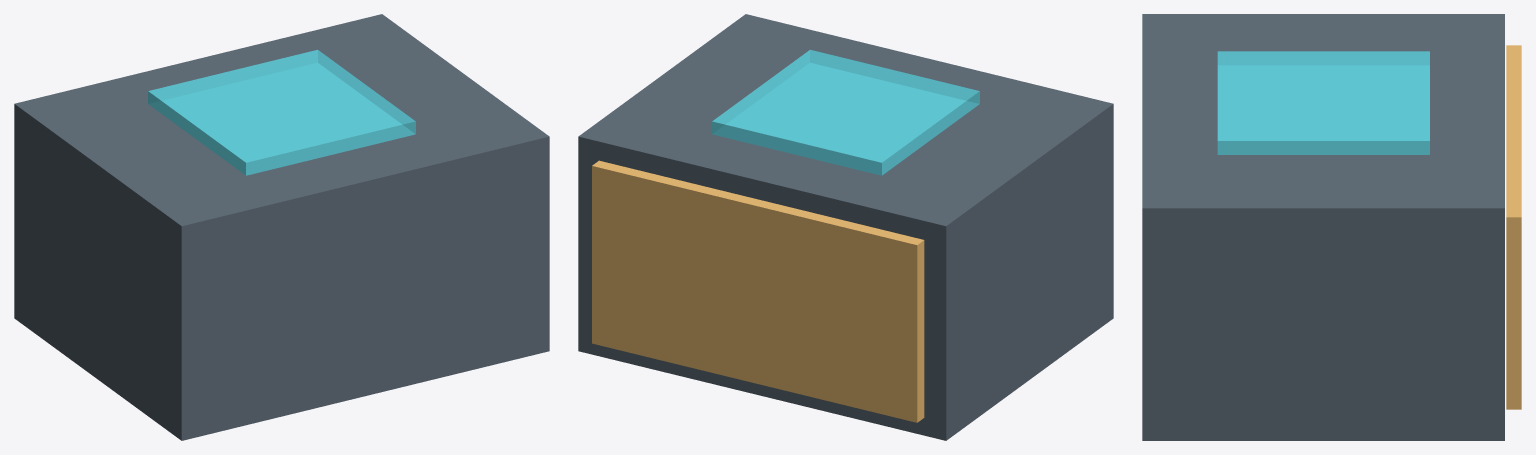
3 renders of one model, left to right at view 1: azimuth 30°, elevation 25°; view 2: azimuth 150°, elevation 25°; view 3: azimuth 270°, elevation 25°, orthographic. The views are drawn at different scales.
Visible parts, largest first — view 1: psu body, psu fan grille; view 2: psu body, psu mount face, psu fan grille; view 3: psu body, psu fan grille, psu mount face.
Part boxes in pixels (left/top/right/bottom): psu body: left=14, top=14, right=549, bottom=440; psu fan grille: left=148, top=49, right=415, bottom=175; psu body: left=578, top=14, right=1113, bottom=440; psu mount face: left=592, top=160, right=924, bottom=422; psu fan grille: left=712, top=49, right=979, bottom=175; psu body: left=1142, top=14, right=1504, bottom=440; psu fan grille: left=1217, top=51, right=1429, bottom=154; psu mount face: left=1506, top=45, right=1521, bottom=409.
Size of the model in its own units: 1.04 by 0.6175 by 0.8575.
